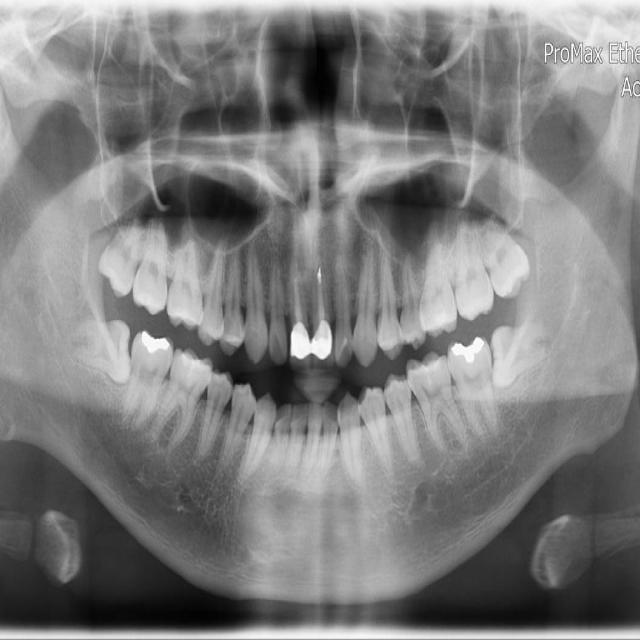3M ESPE Implant: (92, 205, 147, 302)
52: (125, 326, 180, 376), (288, 319, 335, 375), (443, 334, 495, 381)
73: (286, 255, 309, 334), (311, 251, 330, 333), (544, 550, 558, 554)
BioHorizons Implant: (437, 206, 499, 323)
BioLife Implant: (473, 206, 537, 303)
Biomet 3i Implant: (487, 322, 555, 389)
Blue Sky Bio Implant: (442, 334, 512, 445)
Caries: (132, 206, 167, 316)
Implant: (104, 326, 180, 432)
Keystone Dental Implant: (74, 317, 134, 385)
